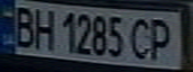1: (54, 8, 78, 53)
2: (72, 10, 93, 56)
5: (106, 12, 130, 59)
8: (90, 11, 112, 57)
B: (9, 2, 39, 48)
C: (127, 15, 157, 61)
H: (30, 6, 57, 51)
P: (145, 15, 181, 62)
